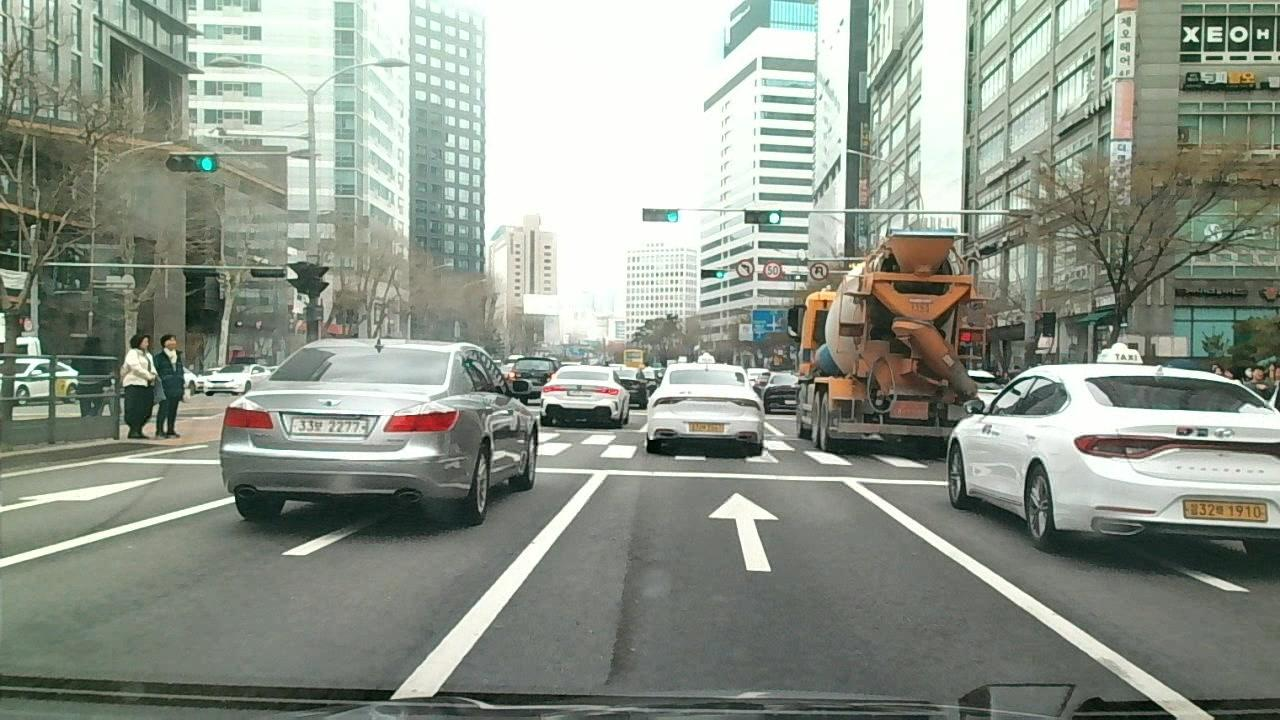banner: (598, 516, 644, 679)
